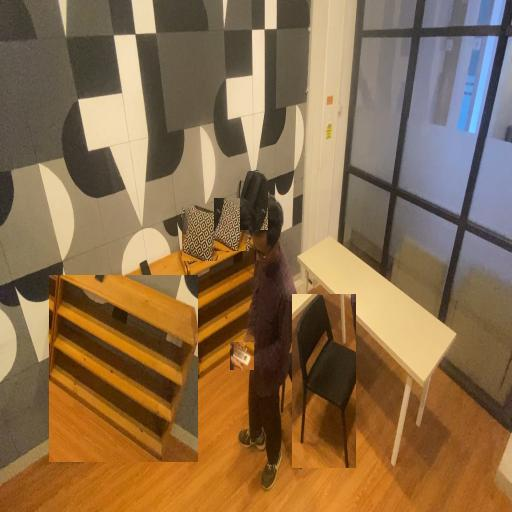bantal: (182, 204, 218, 261), (214, 198, 249, 251)
hp: (139, 258, 154, 284)
kursi: (292, 294, 356, 468)
lemari: (49, 275, 198, 462)
remote AC: (230, 342, 254, 370)
tas ransel: (240, 171, 268, 230)
